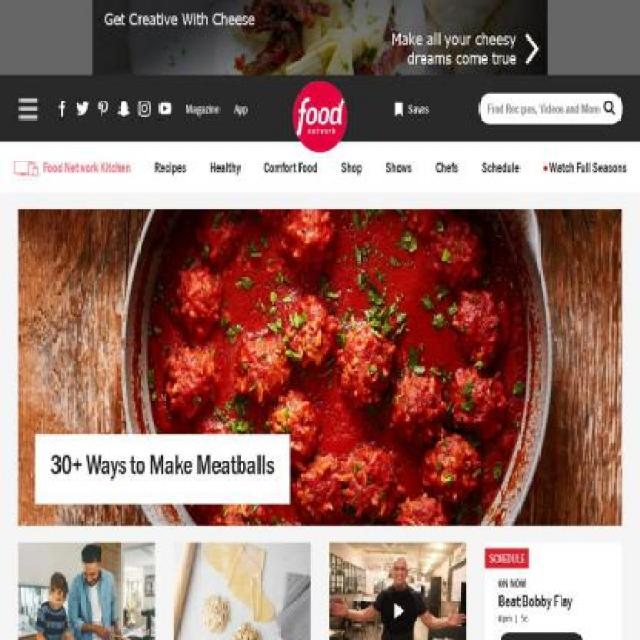button: (173, 542, 312, 640), (329, 542, 468, 640), (18, 542, 156, 640), (378, 586, 417, 637), (498, 595, 572, 613), (389, 95, 429, 123), (498, 632, 585, 640), (53, 110, 70, 125), (74, 110, 91, 125), (95, 110, 112, 125), (136, 110, 153, 125), (156, 110, 173, 125), (116, 110, 132, 125)
field: (479, 93, 623, 124)
